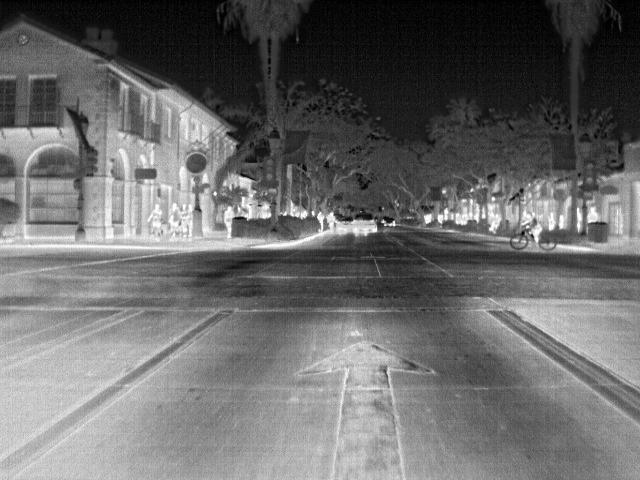car: (352, 212, 379, 232), (382, 216, 398, 228)
person: (523, 209, 542, 249), (146, 204, 165, 236), (166, 200, 182, 234), (222, 206, 235, 239), (573, 204, 586, 234), (325, 210, 340, 232), (314, 210, 326, 231), (587, 206, 602, 222)
